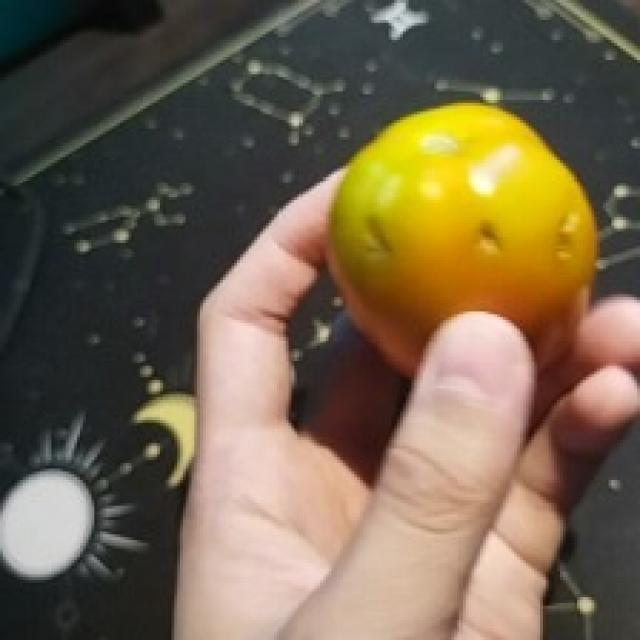Rotten Tomato: (330, 84, 615, 410)
